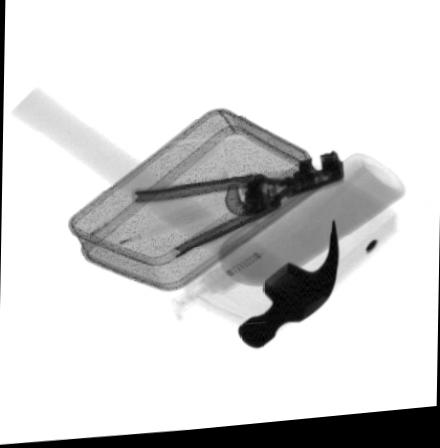Hammer: (7, 85, 338, 351)
Pliers: (133, 155, 343, 259)
